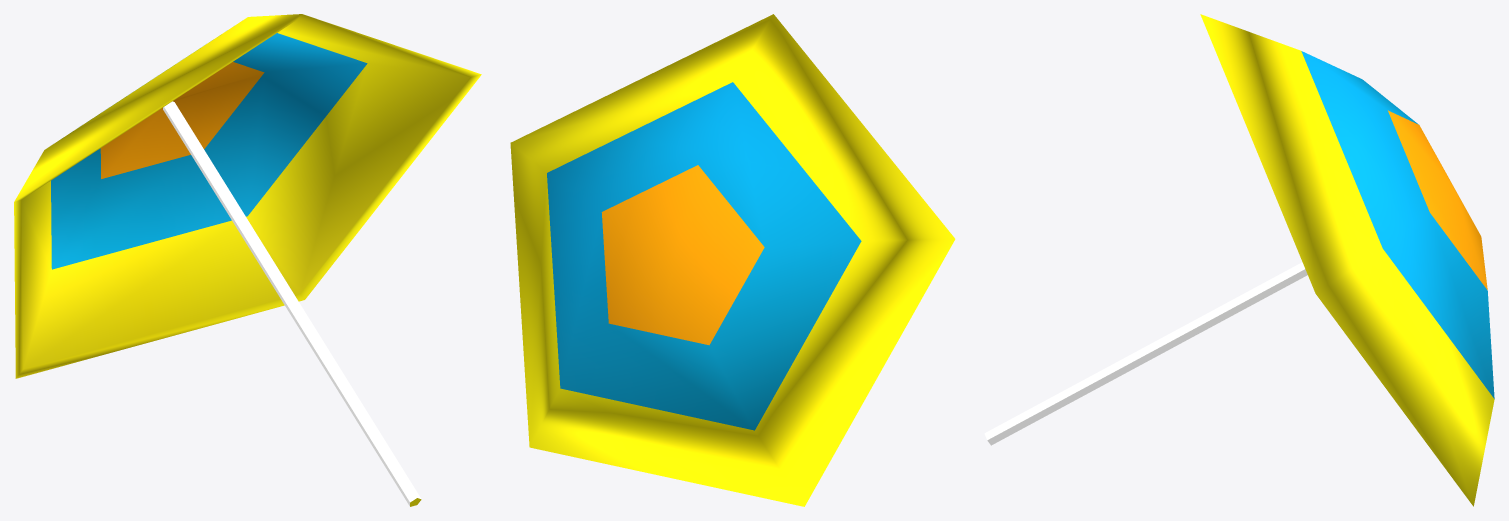
File: BeachUmbrellaOnGroundYellow.glb
3 views of the same model, side by side, from view 1: azimuth 30°, elevation 25°; view 2: azimuth 150°, elevation 25°; view 3: azimuth 270°, elevation 25° (orthographic). The views are drawn at different scales.
Parts seen in each view (by area): view 1: BeachUmbrellaOnGroundYellow; view 2: BeachUmbrellaOnGroundYellow; view 3: BeachUmbrellaOnGroundYellow.
Boxes of the visible parts, box(x1,y1,x2,y2) form: BeachUmbrellaOnGroundYellow: box(14, 14, 481, 506); BeachUmbrellaOnGroundYellow: box(510, 14, 955, 506); BeachUmbrellaOnGroundYellow: box(984, 14, 1494, 506).
Size of the model in its own units: 2.42 by 2.01 by 2.18.
Materials: 1 (1 with a texture image).
